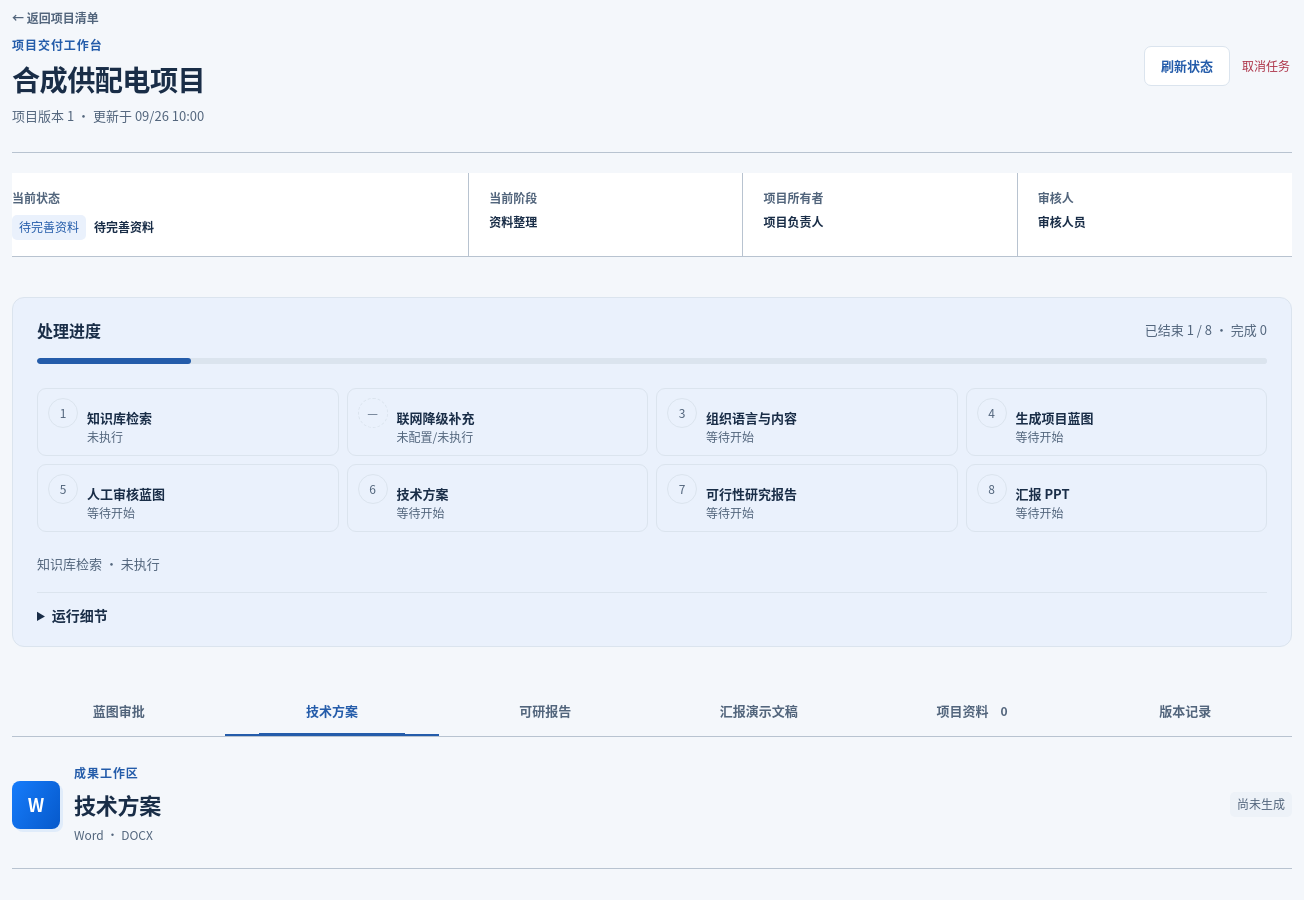
Test: product business workbench › never offers stale artifacts as current outputs in any artifact tab
The width and height of the screenshot is (1304, 900).
Click the tab "技术方案" at [332, 712], box [225, 687, 439, 736]
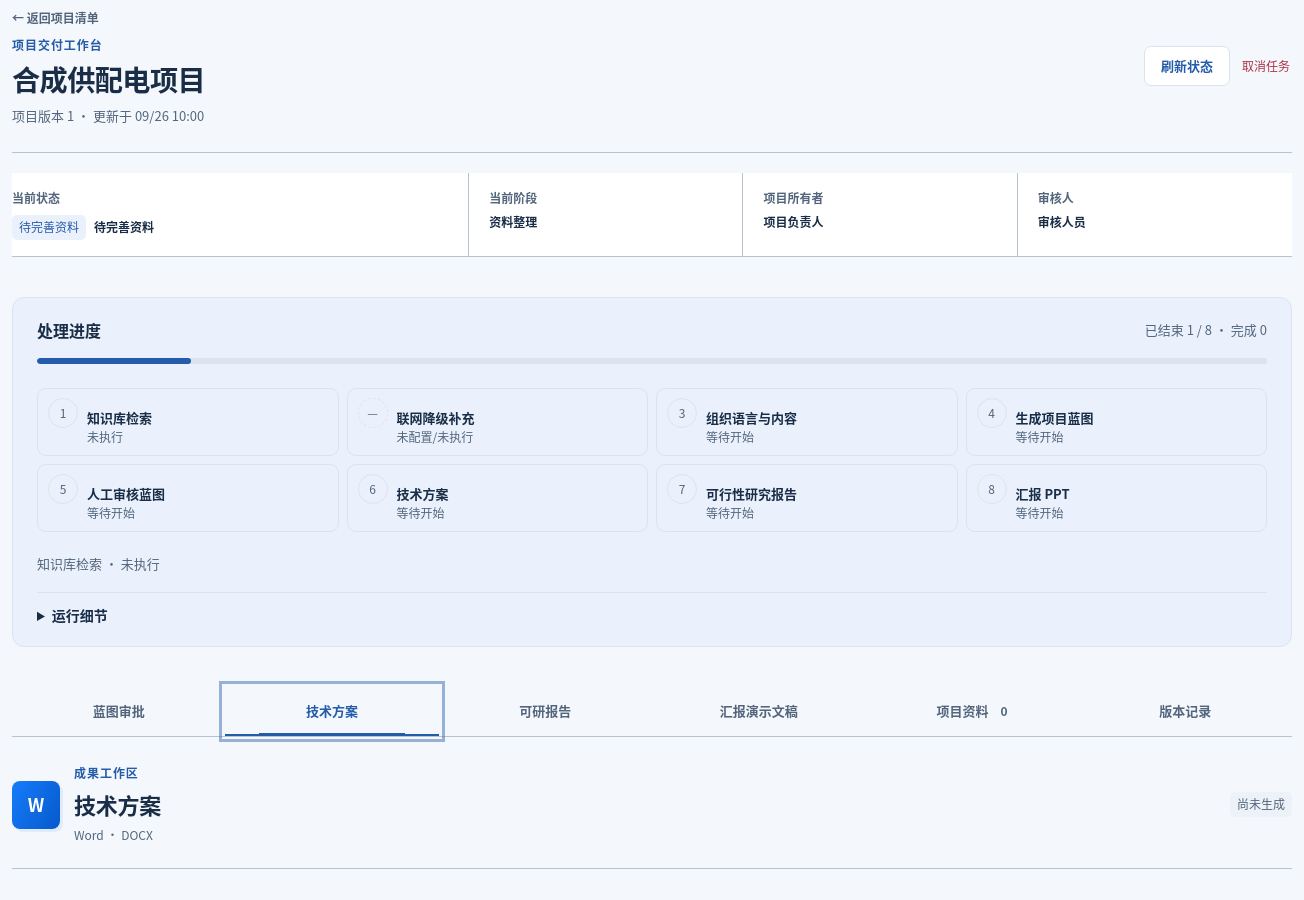
Expected: the panel shows "尚未生成", [1237, 795, 1285, 812]
Click the tab "可研报告" at [545, 712], box [439, 687, 652, 736]
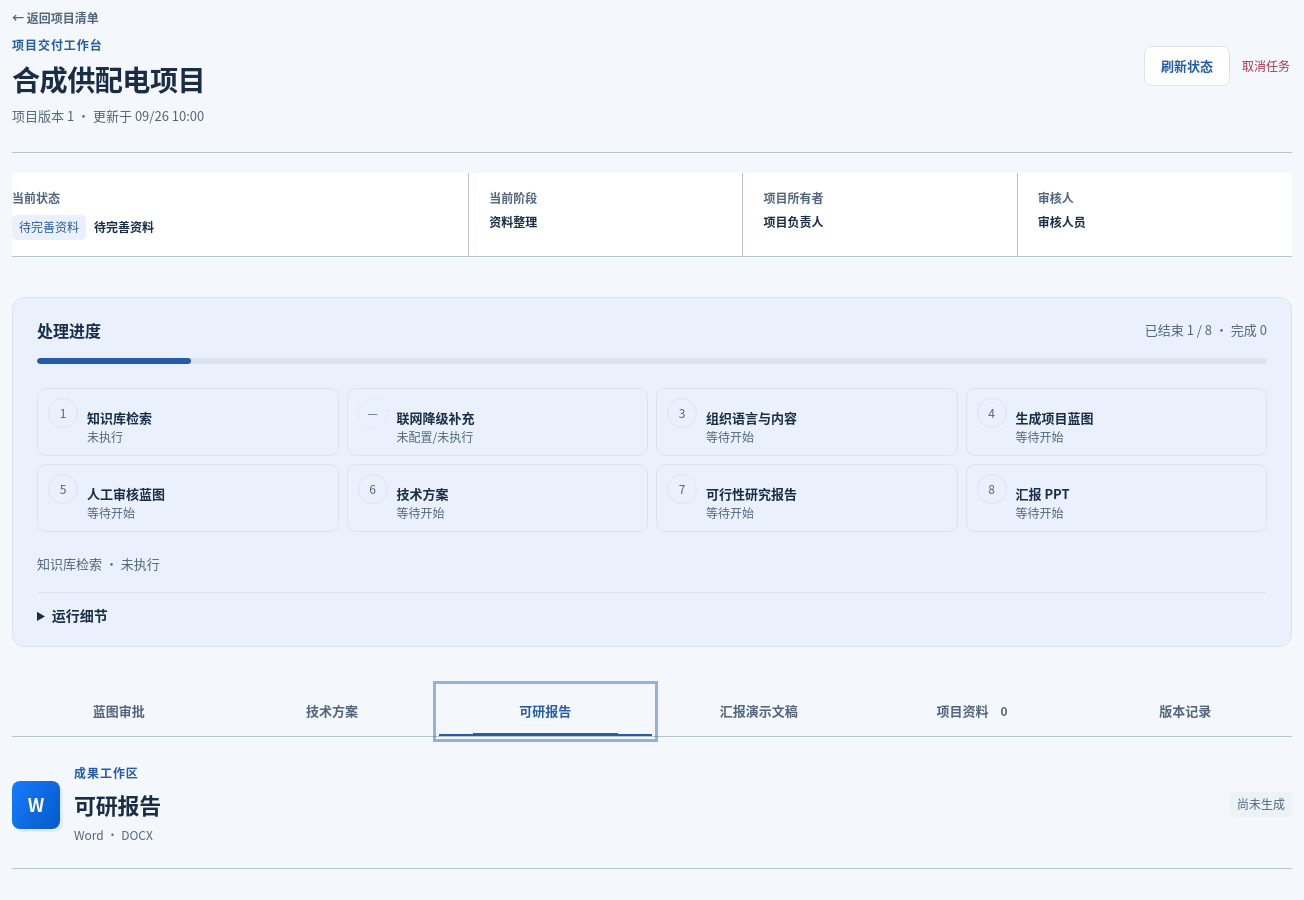
Expected: the panel shows "尚未生成", [1237, 795, 1285, 812]
Expected: the tab "可研报告" is selected, [439, 687, 652, 736]
Click the tab "汇报演示文稿" at [759, 712], box [652, 687, 865, 736]
(page scrolled)
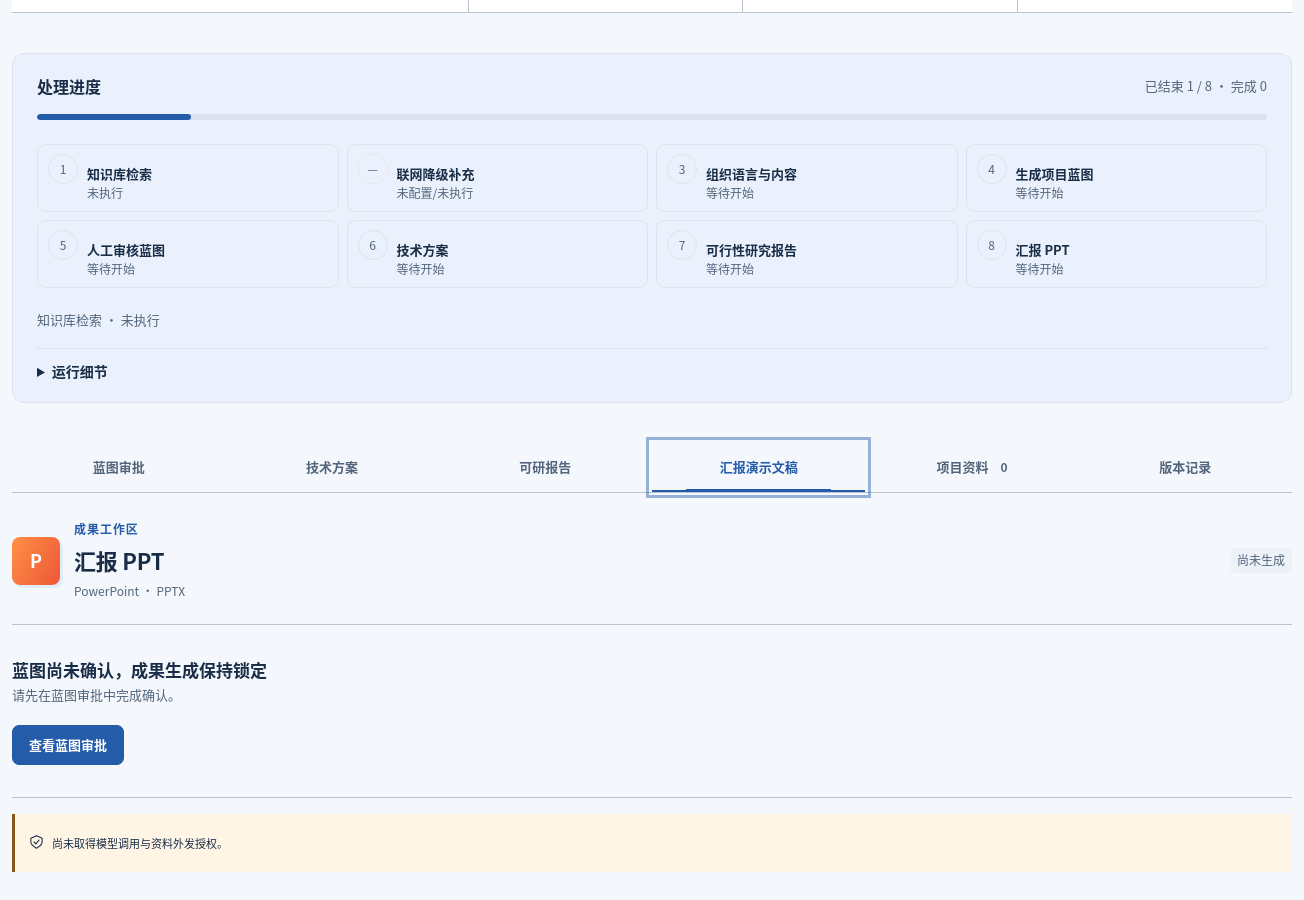
Expected: the panel shows "尚未生成", [1237, 551, 1285, 568]
